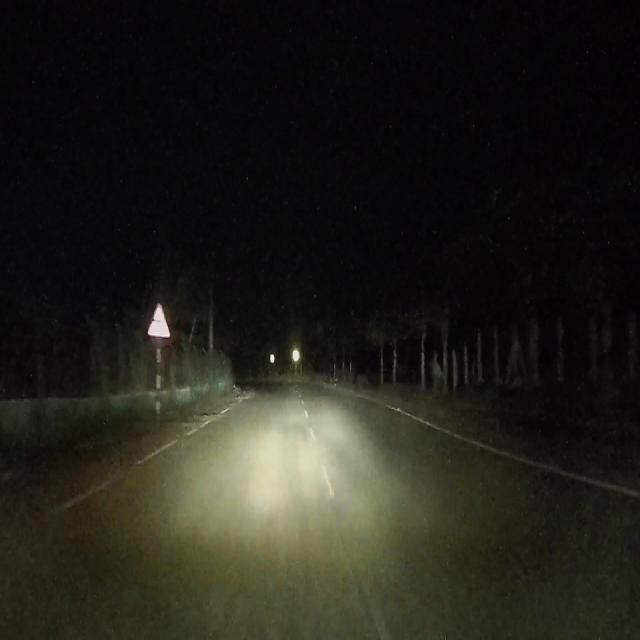right-hand-curve: (149, 303, 172, 342)
